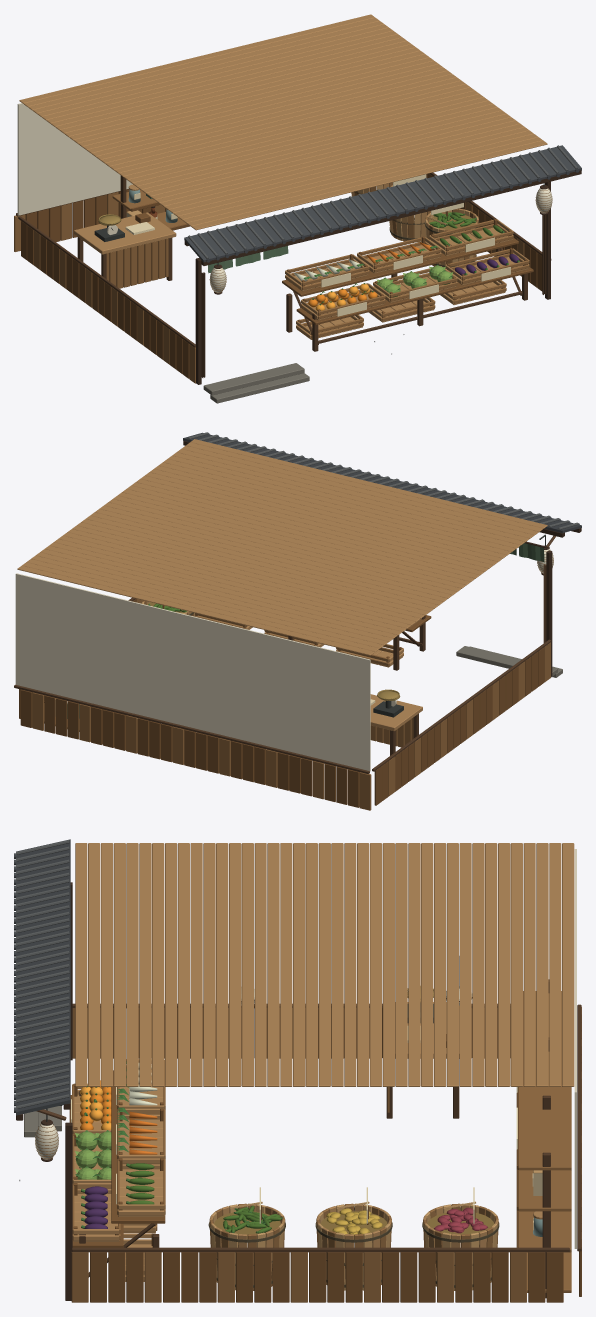
The model's file is japan_kit22_mikan_grocer2.fbx.
The picture shows the model from 3 angles, top to bottom: view 1: azimuth 30°, elevation 25°; view 2: azimuth 150°, elevation 25°; view 3: azimuth 270°, elevation 25°; orthographic projection. The views are drawn at different scales.
Visible parts, largest first — view 1: M2_Ceiling_CedarLight, M2_Facade_Tile, M2_Lining_CedarDark, M2_Lining_Cream, M2_Produce_Cedar, M2_Produce_CedarLight, M2_Facade_TileEdge, M2_Lining_Cedar, M2_Facade_Timber, M2_Produce_CedarDark, M2_Counter_Cedar, M2_Threshold_Stone (+10 smaller); view 2: M2_Ceiling_CedarLight, M2_Lining_Cream, M2_Lining_CedarDark, M2_Lining_Cedar, M2_Facade_Tile, M2_Lining_TimberEdge, M2_Facade_TileEdge, M2_Facade_Timber, M2_Counter_CedarLight, M2_Threshold_Stone, M2_Produce_Cedar, M2_Counter_Cedar (+1 smaller); view 3: M2_Ceiling_CedarLight, M2_Lining_CedarDark, M2_Facade_Tile, M2_Facade_TileEdge, M2_Pantry_Cedar, M2_Lining_Cedar, M2_Produce_CedarLight, M2_Lining_TimberEdge, M2_Facade_Timber, M2_Produce_CedarDark, M2_Produce_LeafLight, M2_Lining_Cream (+22 smaller).
Part boxes in pixels (bbox=[...]): M2_Ceiling_CedarLight: bbox=[19, 14, 547, 230]; M2_Facade_Tile: bbox=[184, 145, 581, 262]; M2_Lining_CedarDark: bbox=[21, 173, 542, 378]; M2_Lining_Cream: bbox=[17, 103, 132, 215]; M2_Produce_Cedar: bbox=[285, 219, 529, 338]; M2_Produce_CedarLight: bbox=[285, 219, 529, 339]; M2_Facade_TileEdge: bbox=[188, 145, 577, 258]; M2_Lining_Cedar: bbox=[14, 192, 524, 383]; M2_Facade_Timber: bbox=[184, 170, 581, 384]; M2_Produce_CedarDark: bbox=[282, 219, 533, 335]; M2_Counter_Cedar: bbox=[106, 238, 168, 288]; M2_Threshold_Stone: bbox=[203, 363, 309, 403]; M2_Ceiling_CedarLight: bbox=[17, 439, 547, 655]; M2_Lining_Cream: bbox=[15, 573, 370, 771]; M2_Lining_CedarDark: bbox=[19, 598, 544, 807]; M2_Lining_Cedar: bbox=[32, 599, 550, 810]; M2_Facade_Tile: bbox=[183, 432, 581, 533]; M2_Lining_TimberEdge: bbox=[14, 597, 551, 774]; M2_Facade_TileEdge: bbox=[187, 432, 578, 529]; M2_Facade_Timber: bbox=[183, 441, 581, 676]; M2_Counter_CedarLight: bbox=[370, 694, 422, 731]; M2_Threshold_Stone: bbox=[456, 646, 562, 677]; M2_Produce_Cedar: bbox=[194, 613, 403, 666]; M2_Counter_Cedar: bbox=[370, 717, 413, 747]; M2_Ceiling_CedarLight: bbox=[75, 843, 574, 1086]; M2_Lining_CedarDark: bbox=[90, 1008, 581, 1302]; M2_Facade_Tile: bbox=[14, 839, 70, 1115]; M2_Facade_TileEdge: bbox=[16, 840, 69, 1108]; M2_Pantry_Cedar: bbox=[518, 991, 571, 1292]; M2_Lining_Cedar: bbox=[71, 1007, 581, 1302]; M2_Produce_CedarLight: bbox=[73, 1059, 164, 1281]; M2_Lining_TimberEdge: bbox=[72, 1003, 581, 1252]; M2_Facade_Timber: bbox=[16, 882, 72, 1300]; M2_Produce_CedarDark: bbox=[69, 1070, 165, 1247]; M2_Produce_LeafLight: bbox=[75, 1131, 111, 1179]; M2_Lining_Cream: bbox=[241, 849, 576, 1248].
Bounding box in the file's own units: 26 × 10.63 × 23.94.
